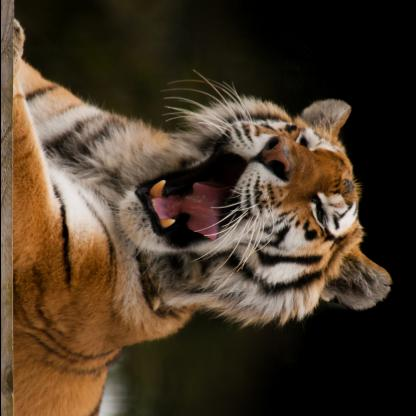tiger: (110, 86, 392, 334)
